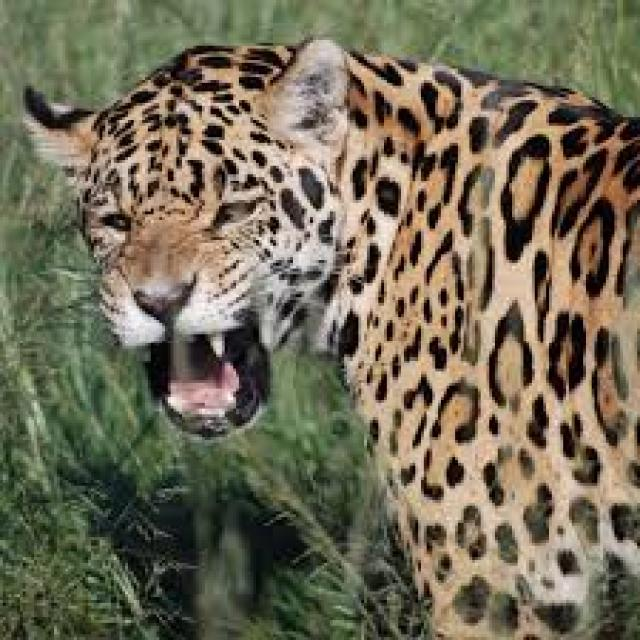Jaguar: (20, 34, 640, 640)
